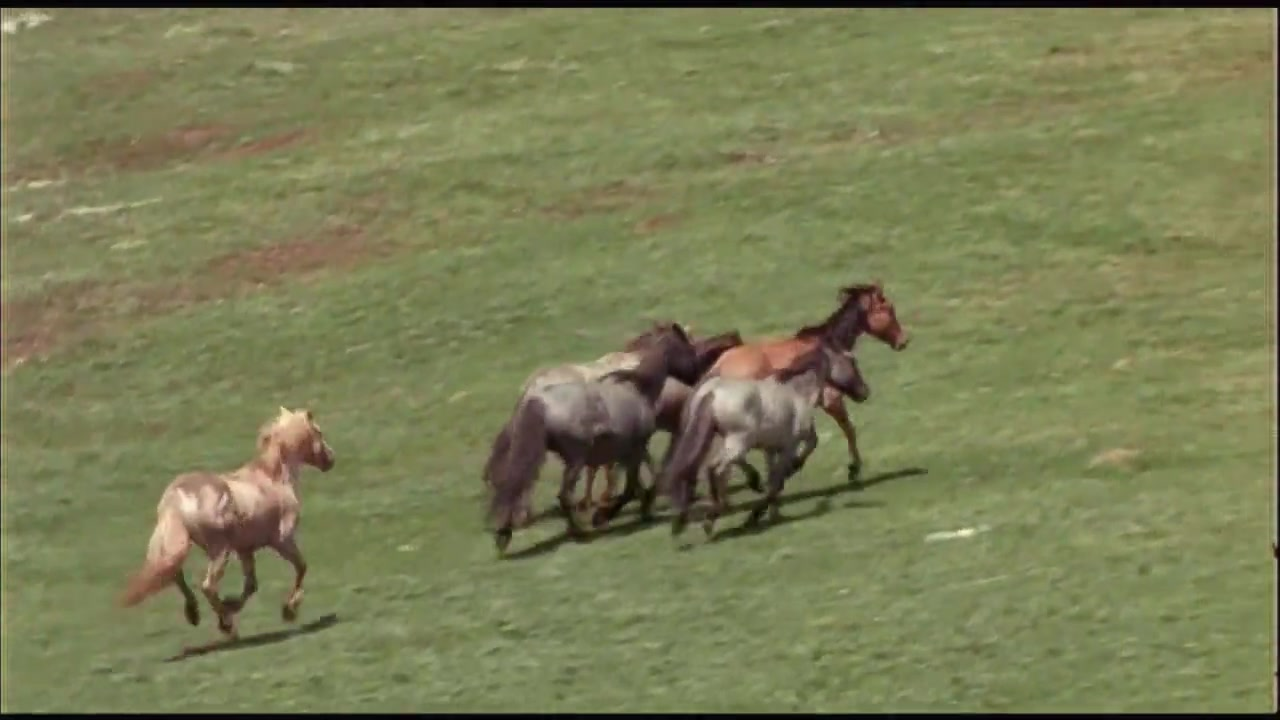horse: (116, 406, 341, 649)
